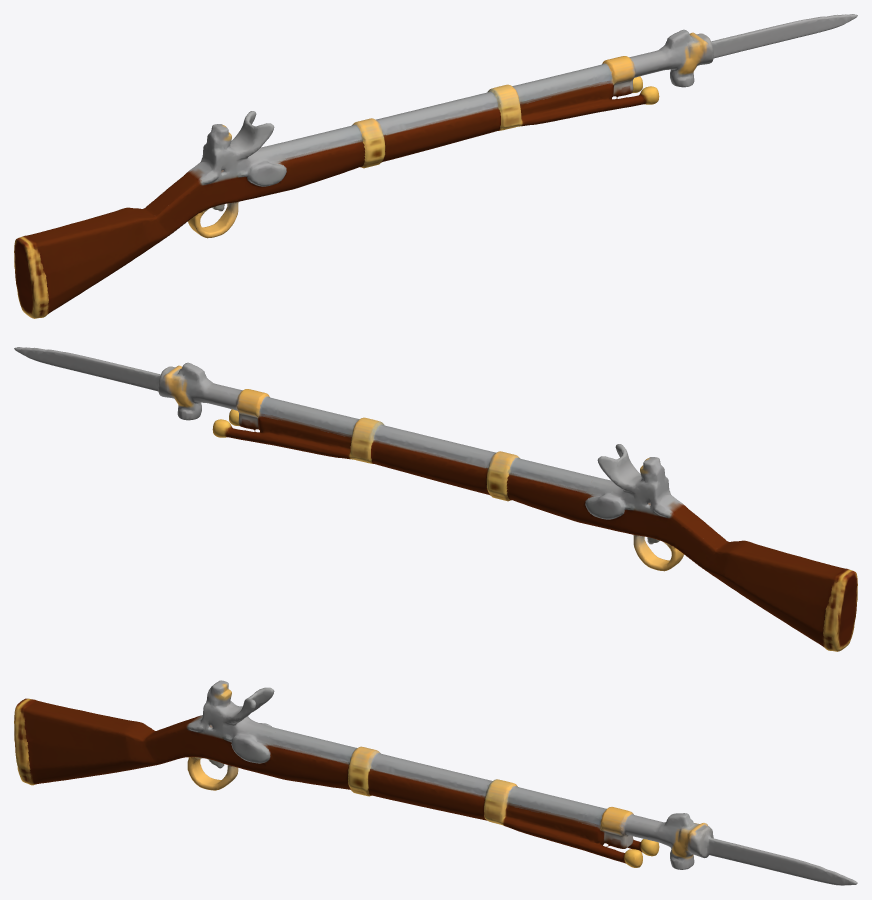
The model's file is flintlock_musket.glb.
3 renders of one model, top to bottom at view 1: azimuth 30°, elevation 25°; view 2: azimuth 150°, elevation 25°; view 3: azimuth 330°, elevation 25°, orthographic.
Visible parts, largest first — view 1: world; view 2: world; view 3: world.
Part boxes in pixels (bbox=[...]): world: bbox=[14, 14, 857, 318]; world: bbox=[14, 347, 857, 651]; world: bbox=[14, 680, 857, 885].
Bounding box in the file's own units: 1 × 0.164 × 0.0509.
1 material, 1 textured.
